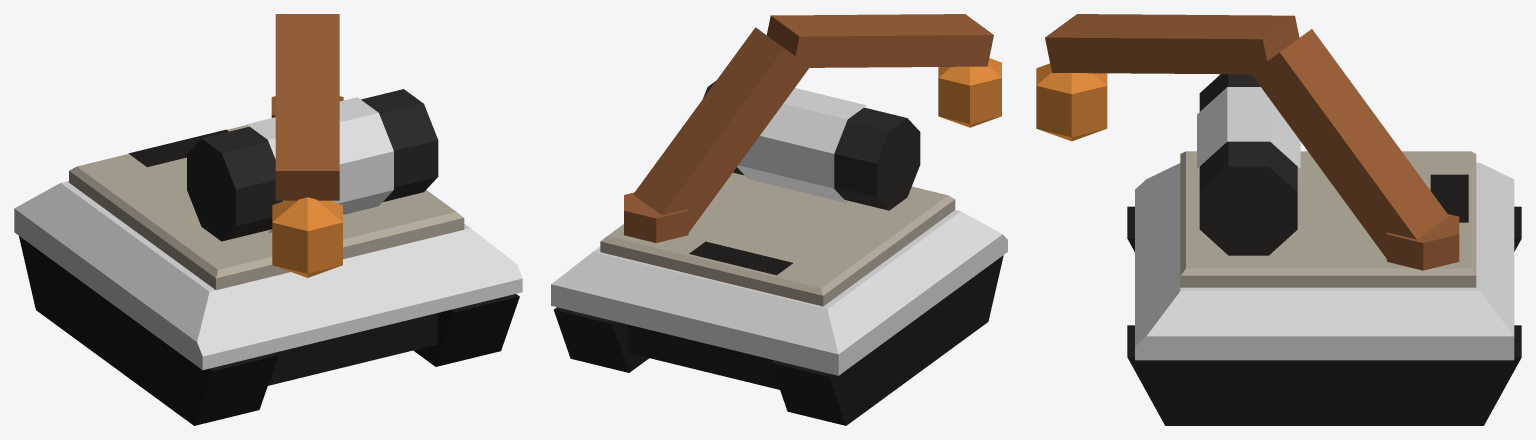
The model's file is lnd_t1_engineer.4365f640.raw.glb.
3 renders of one model, left to right at view 1: azimuth 30°, elevation 25°; view 2: azimuth 150°, elevation 25°; view 3: azimuth 270°, elevation 25°, orthographic. The views are drawn at different scales.
Parts seen in each view (by area): view 1: lod0; view 2: lod0; view 3: lod0.
Part boxes in pixels (left/top/right/bottom): lod0: left=14, top=14, right=522, bottom=425; lod0: left=551, top=14, right=1007, bottom=425; lod0: left=1036, top=14, right=1521, bottom=425.
Size of what is drawn, in the model's own units: 0.98 by 0.9637 by 1.28.
